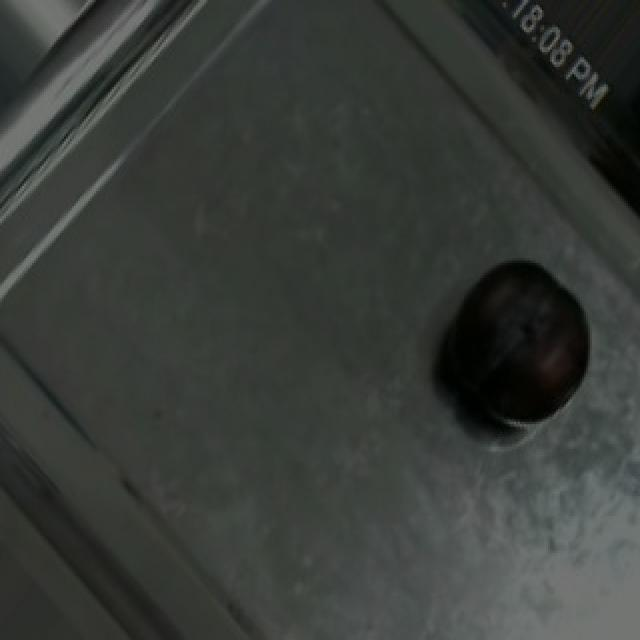Fruit: (434, 238, 616, 449), (594, 70, 640, 228)
